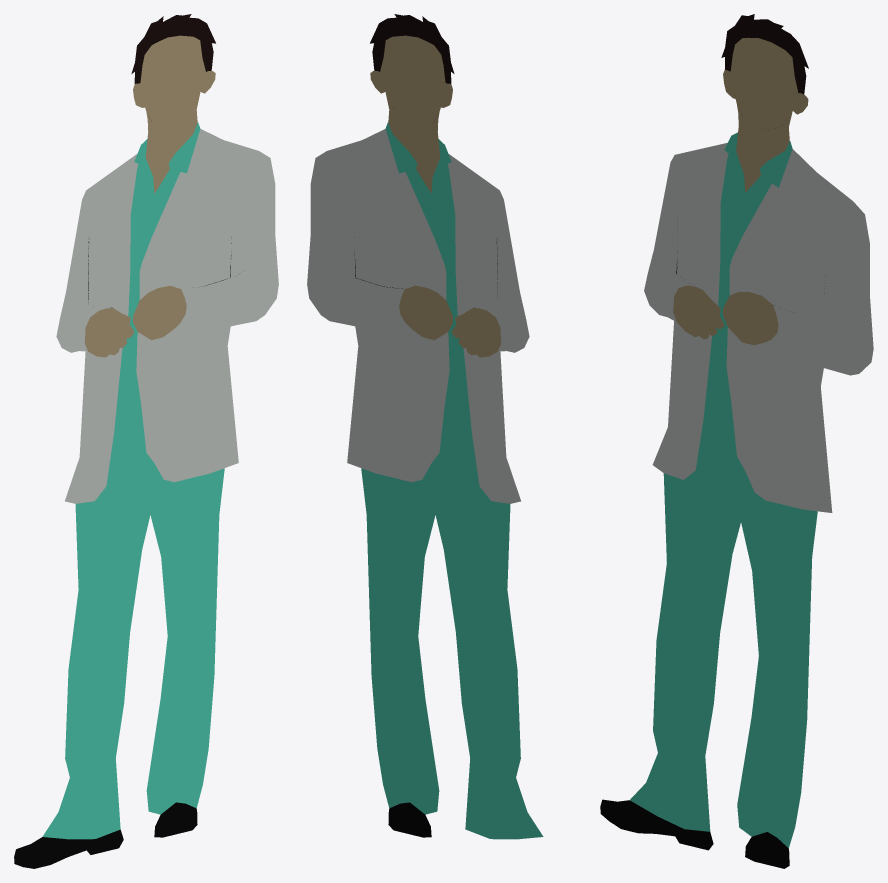
The model's file is 2D_Man_Casual-scrubs.fbx.
3 renders of one model, left to right at view 1: azimuth 30°, elevation 25°; view 2: azimuth 150°, elevation 25°; view 3: azimuth 330°, elevation 25°, orthographic. The views are drawn at different scales.
Parts seen in each view (by area): view 1: Mesh01; view 2: Mesh01; view 3: Mesh01.
Part boxes in pixels (x1=…): Mesh01: x1=14, y1=14, x2=278, y2=868; Mesh01: x1=307, y1=14, x2=543, y2=839; Mesh01: x1=600, y1=14, x2=873, y2=868.
Bounding box in the file's own units: 33.74 × 100 × 7.87e-14.
